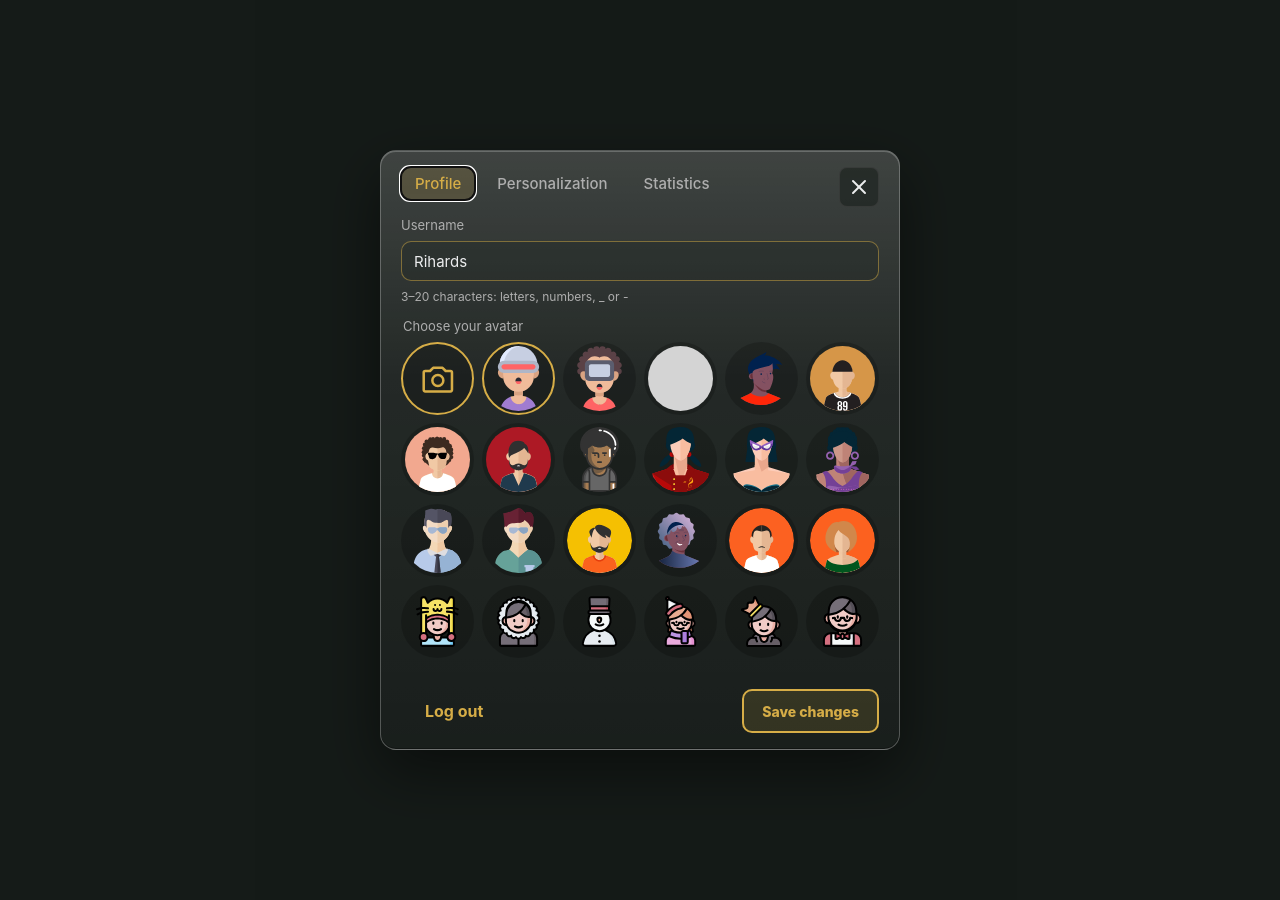
Test: AuthDialog — Personalization tab (glass toggles) › reflects a stored 'on' state as a checked toggle on open
The width and height of the screenshot is (1280, 900).
Click the tab "Personalization".
click(552, 184)  # box [483,167,622,200]
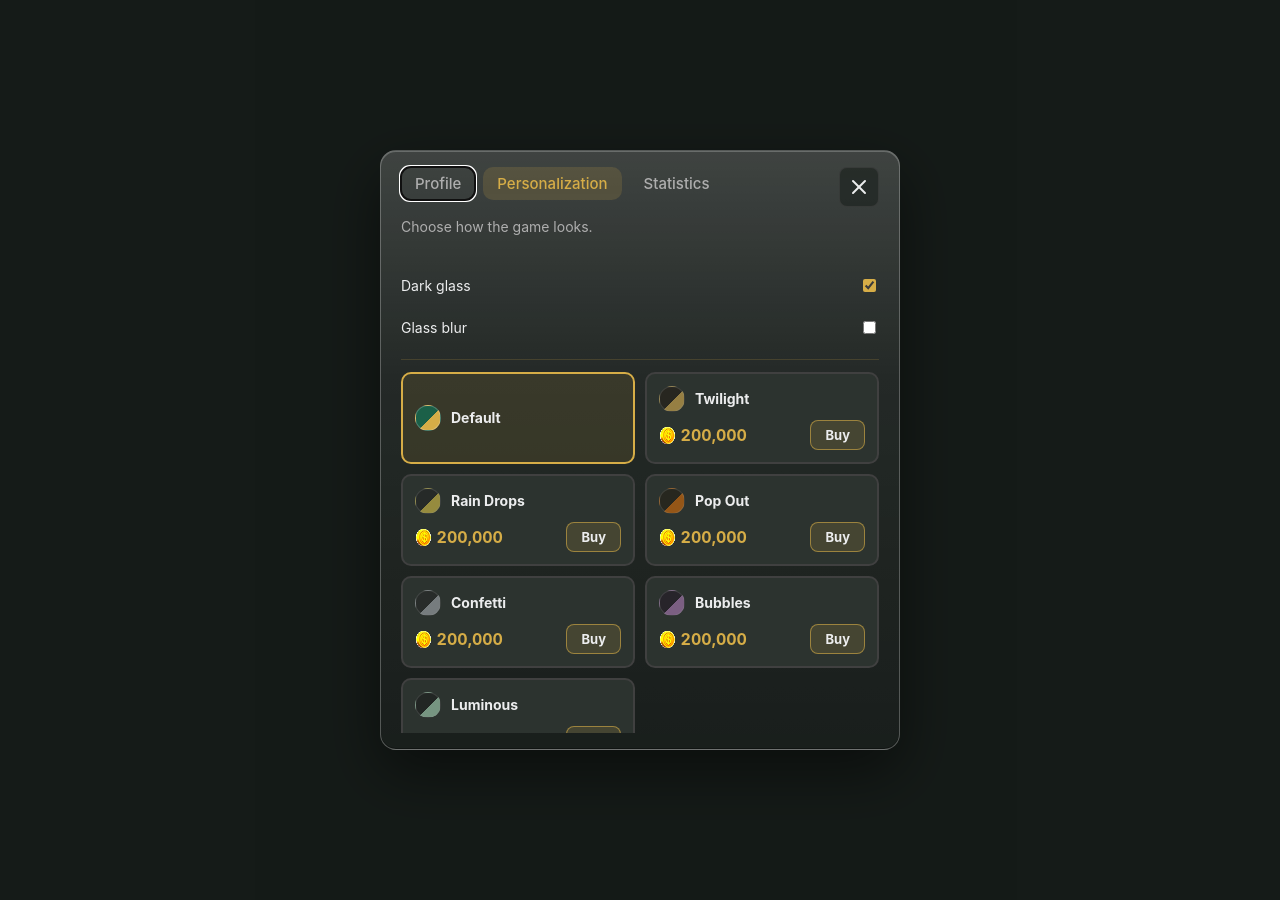
Expected: the checkbox labelled "Dark glass" is checked, [863,279,876,292]
